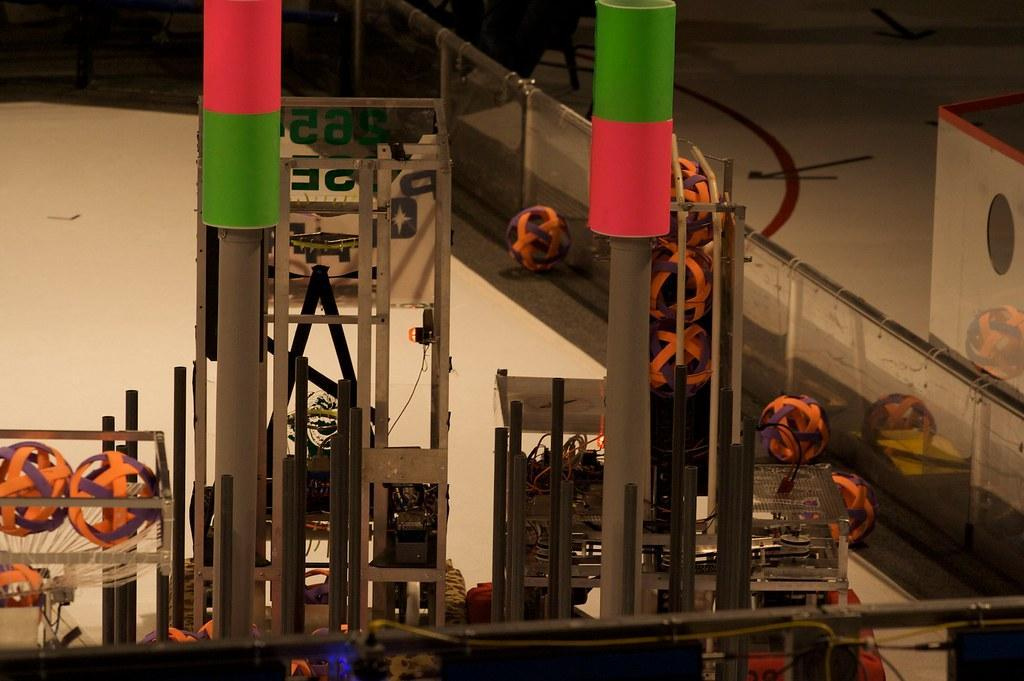robot: (467, 322, 893, 681)
